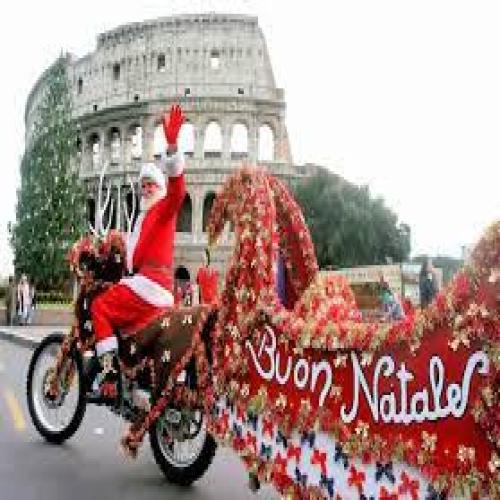Santa: (90, 104, 186, 393)
